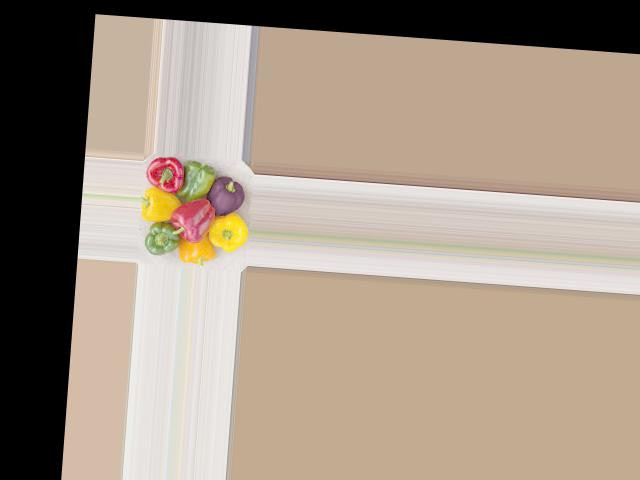bell_pepper: (199, 164, 245, 217)
